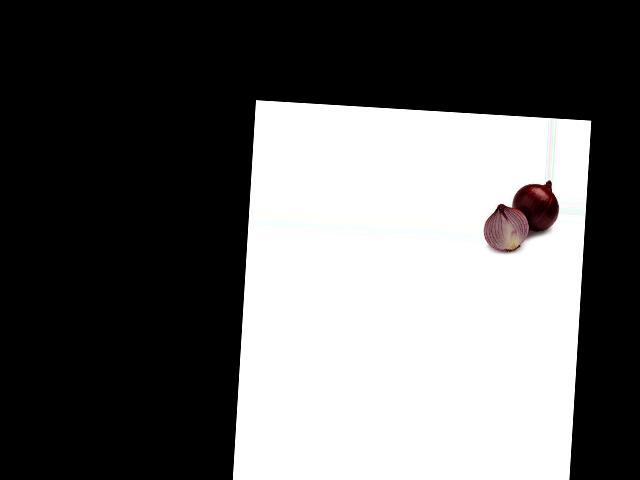onion: (484, 202, 526, 251)
